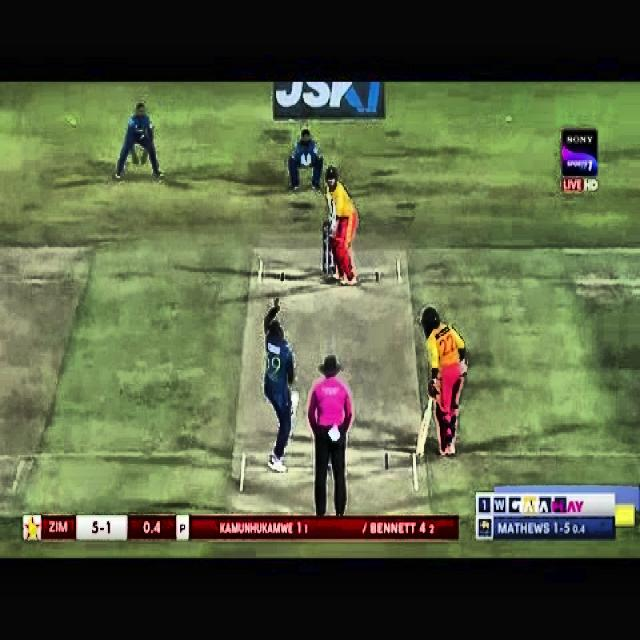Left-stump: (323, 225, 326, 272)
Middle-stump: (329, 225, 331, 272)
Right-stump: (334, 256, 336, 273)
